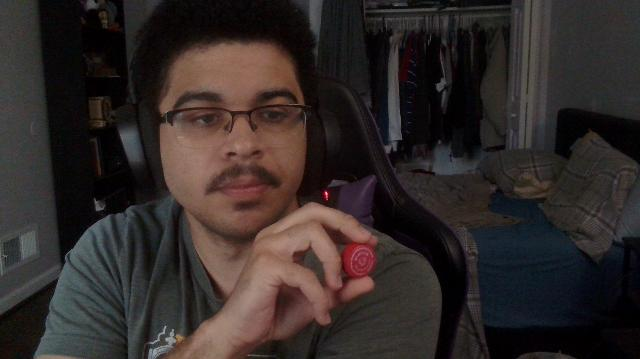cap: (342, 242, 376, 280)
